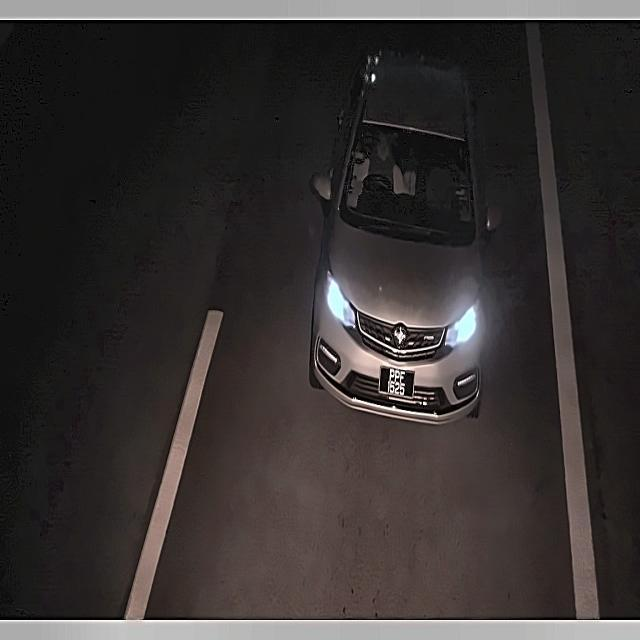car: (379, 362, 411, 404)
